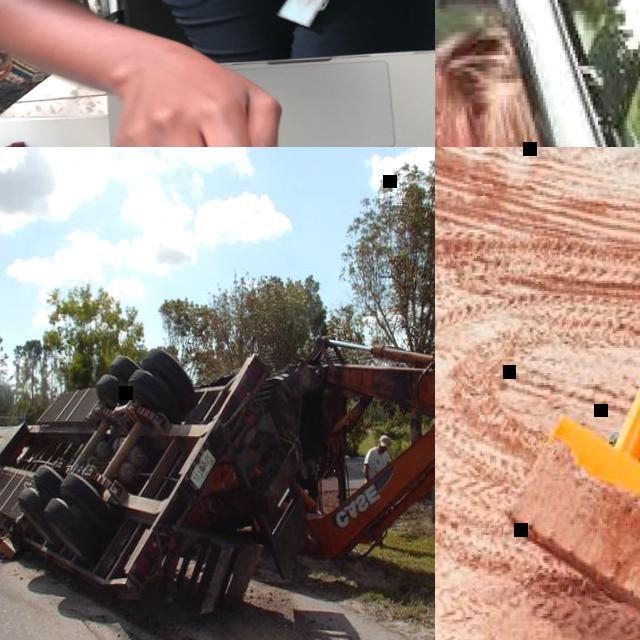machinery: (0, 344, 435, 612), (506, 147, 640, 640)
no_helmet: (435, 29, 519, 108), (380, 434, 390, 448)
no_mask: (378, 451, 386, 456)
no_vest: (371, 451, 388, 475)
person: (0, 0, 435, 147), (435, 28, 640, 147), (364, 435, 392, 549)
vehicle: (435, 0, 640, 147)
